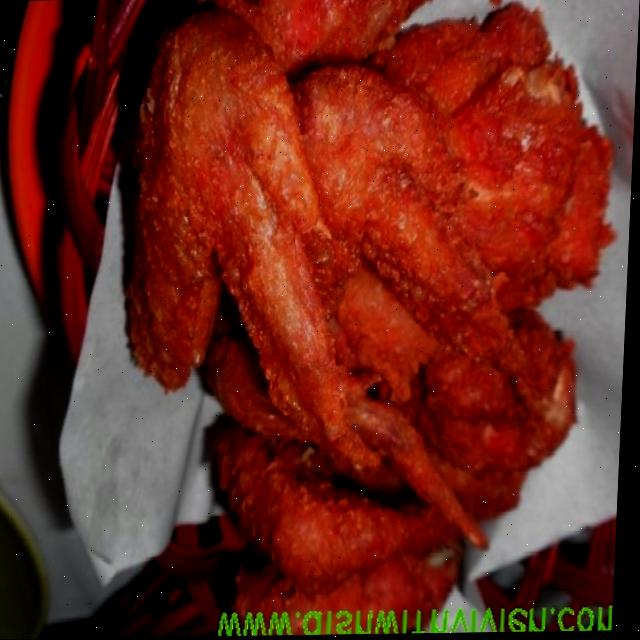鸡肉料理 含炸鸡: (4, 37, 608, 601)
